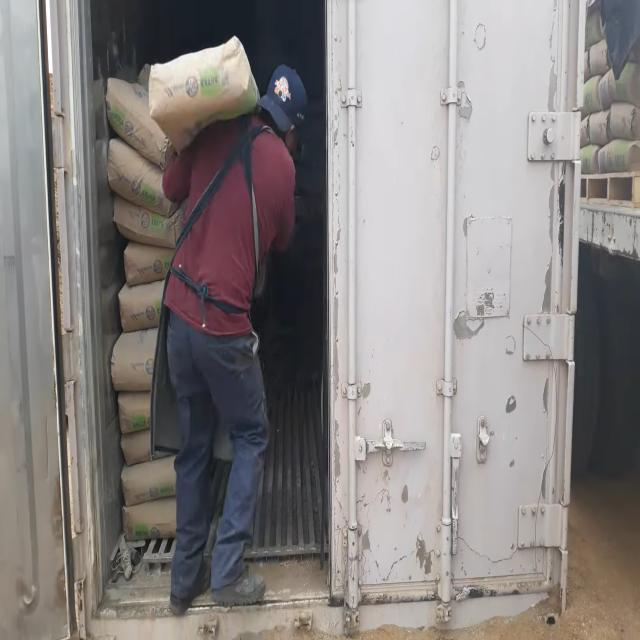gunny_bag: (148, 35, 259, 150), (105, 76, 171, 167), (106, 137, 178, 215), (112, 194, 186, 247), (110, 327, 157, 391), (120, 455, 176, 506), (117, 280, 164, 331), (122, 497, 175, 541), (123, 241, 173, 285), (599, 137, 640, 172), (117, 391, 150, 433), (610, 101, 640, 139), (120, 429, 150, 465), (590, 108, 612, 144)
